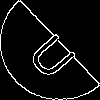U: (25, 25, 86, 83)
